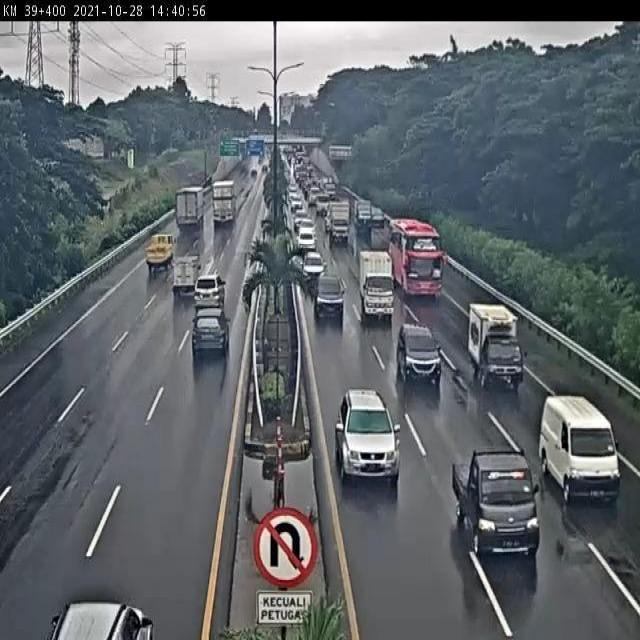car: (450, 447, 542, 559), (538, 395, 623, 505), (333, 387, 402, 485), (396, 322, 443, 386), (190, 307, 232, 355), (314, 274, 346, 322), (192, 274, 226, 310), (300, 248, 327, 281)
truck: (466, 303, 527, 391), (387, 217, 443, 296), (356, 248, 395, 319), (144, 233, 175, 272), (170, 253, 201, 292)
